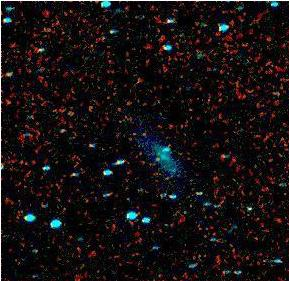star: (140, 146, 170, 176)
